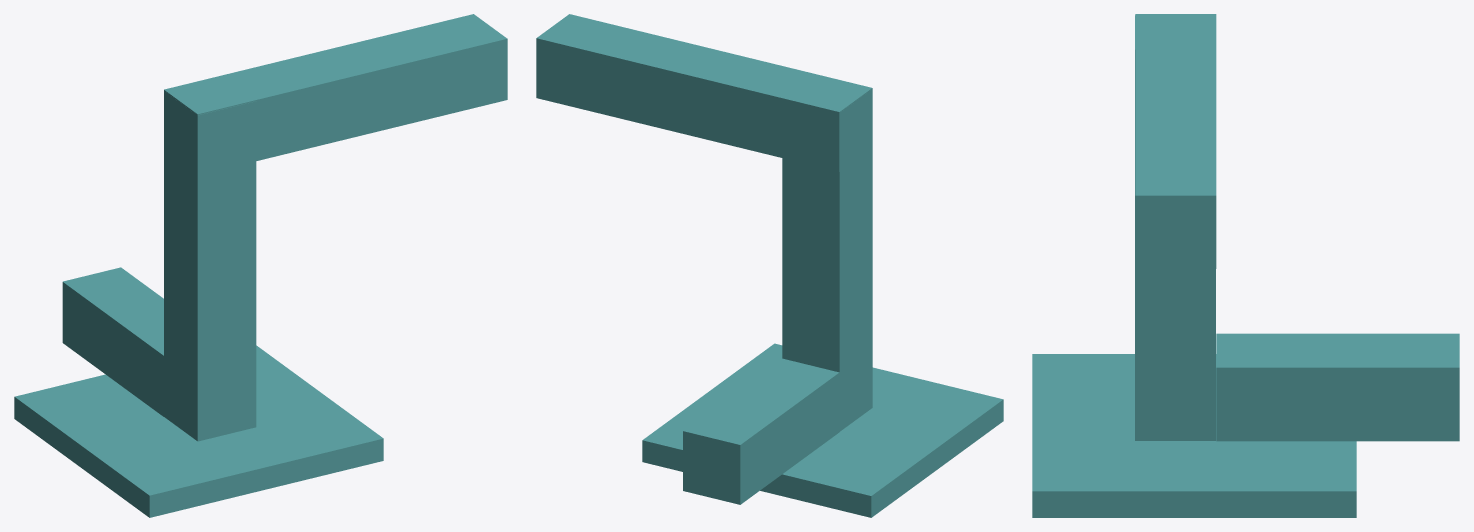
Rendered from Bridge_Triangle_01.fbx.
3 renders of one model, left to right at view 1: azimuth 30°, elevation 25°; view 2: azimuth 150°, elevation 25°; view 3: azimuth 270°, elevation 25°, orthographic. The views are drawn at different scales.
Visible parts, largest first — view 1: Bridge_Triangle_01; view 2: Bridge_Triangle_01; view 3: Bridge_Triangle_01.
Boxes of the visible parts, left/top/right/bottom form: Bridge_Triangle_01: left=14, top=14, right=507, bottom=517; Bridge_Triangle_01: left=536, top=14, right=1003, bottom=517; Bridge_Triangle_01: left=1032, top=14, right=1459, bottom=517.
Bounding box in the file's own units: 6.85 × 5.71 × 5.27.
